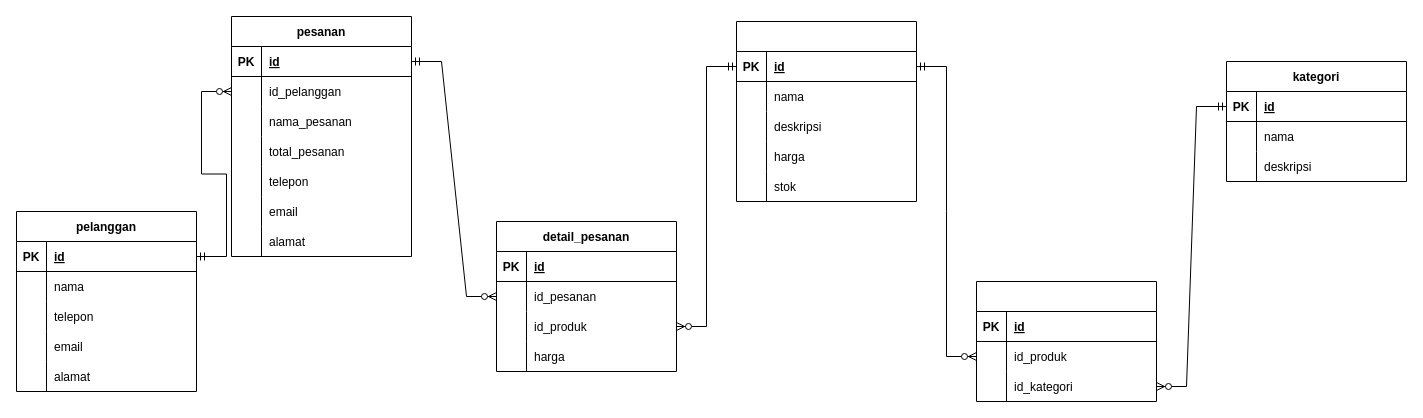
The diagram is 1423 pixels wide and 418 high, and some of its shapes have lost their labels. The box of each missing label's shape, as (x1, y1, x2, y2) in pixels:
kategori_produk: (976, 280, 1156, 402)
produk: (736, 20, 916, 202)
